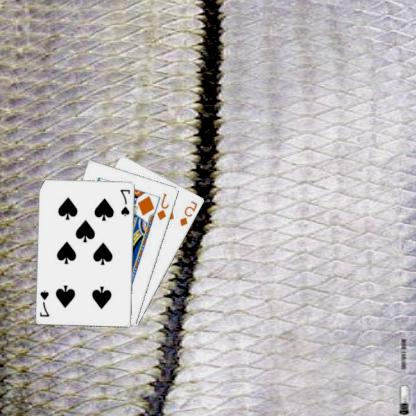5D: (179, 198, 201, 227)
7S: (119, 186, 134, 217), (39, 287, 53, 318)
JD: (156, 191, 172, 222)
